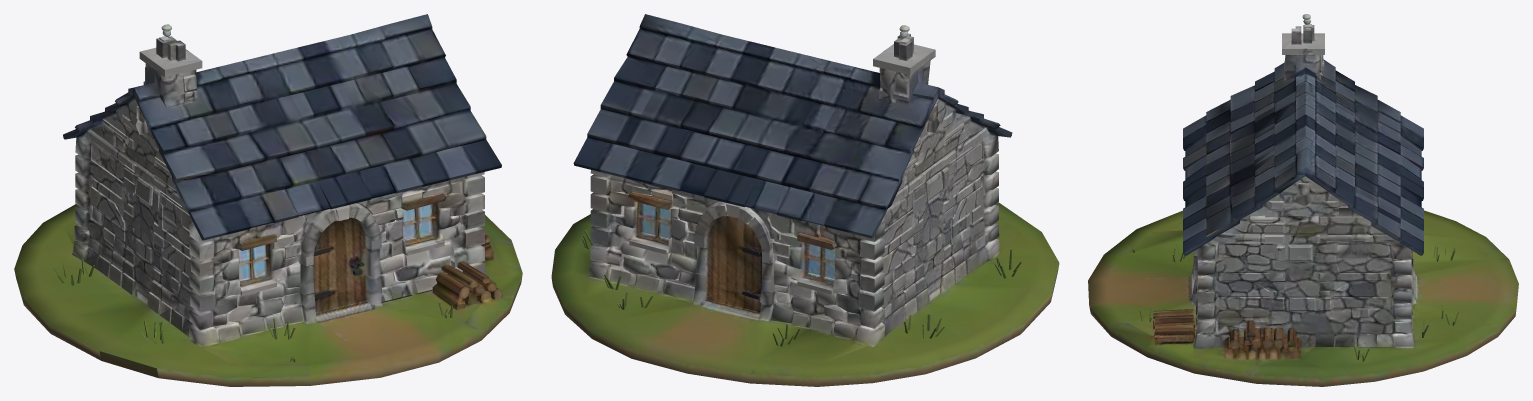
Rendered from card.glb.
3 views of the same model, side by side, from view 1: azimuth 30°, elevation 25°; view 2: azimuth 150°, elevation 25°; view 3: azimuth 270°, elevation 25° (orthographic). The views are drawn at different scales.
Visible parts, largest first — view 1: model; view 2: model; view 3: model.
Part boxes in pixels (x1,y1,x2,y2): model: (14, 14, 522, 386); model: (551, 14, 1059, 386); model: (1088, 14, 1518, 386).
Size of the model in its own units: 2 by 1.21 by 1.98.
Materials: 1 (1 with a texture image).
